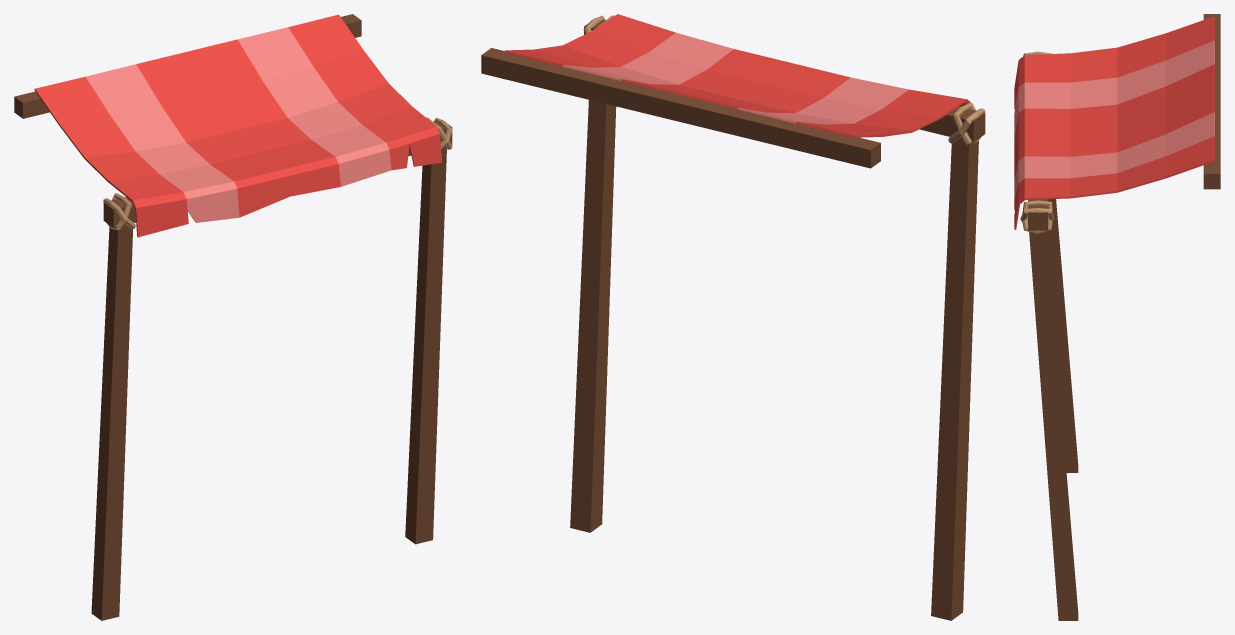
The model's file is Tent_02.fbx.
3 renders of one model, left to right at view 1: azimuth 30°, elevation 25°; view 2: azimuth 150°, elevation 25°; view 3: azimuth 270°, elevation 25°, orthographic. The views are drawn at different scales.
Parts seen in each view (by area): view 1: Tent_02; view 2: Tent_02; view 3: Tent_02.
Part boxes in pixels (x1,y1,x2,y2): Tent_02: (14,14,452,620); Tent_02: (481,14,985,620); Tent_02: (1014,14,1220,620).
Bounding box in the file's own units: 223 × 295 × 121.
